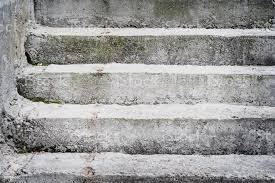Bench: (7, 28, 261, 168)
